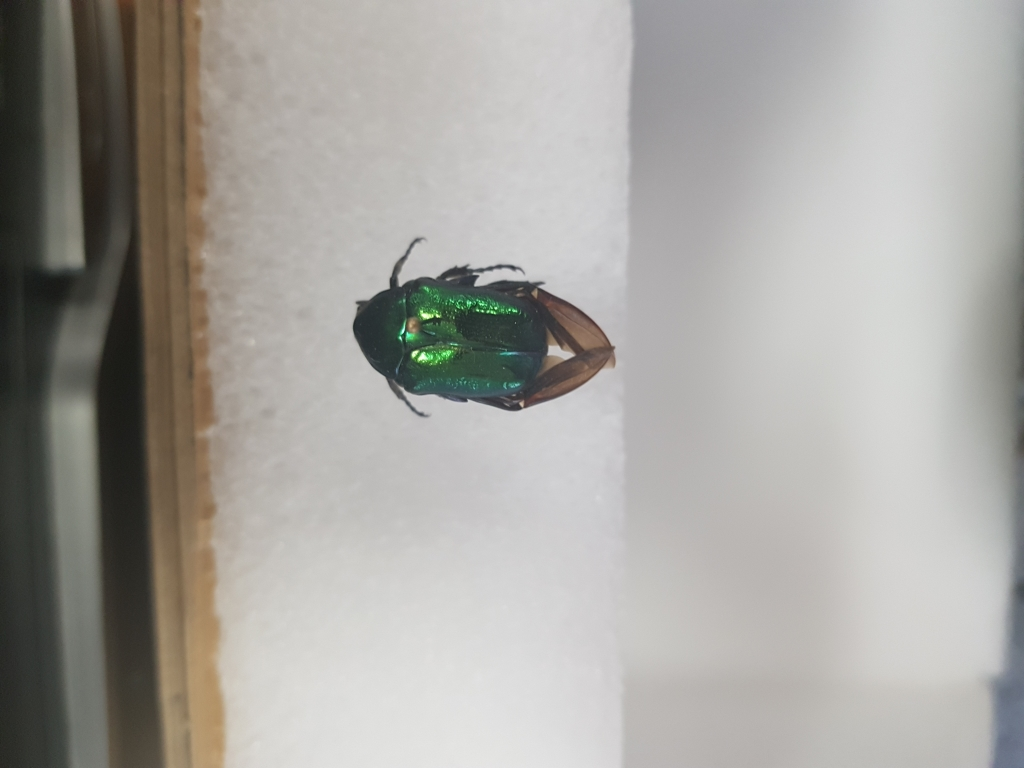Protaetia_angustata_angustata: (349, 226, 619, 426)
